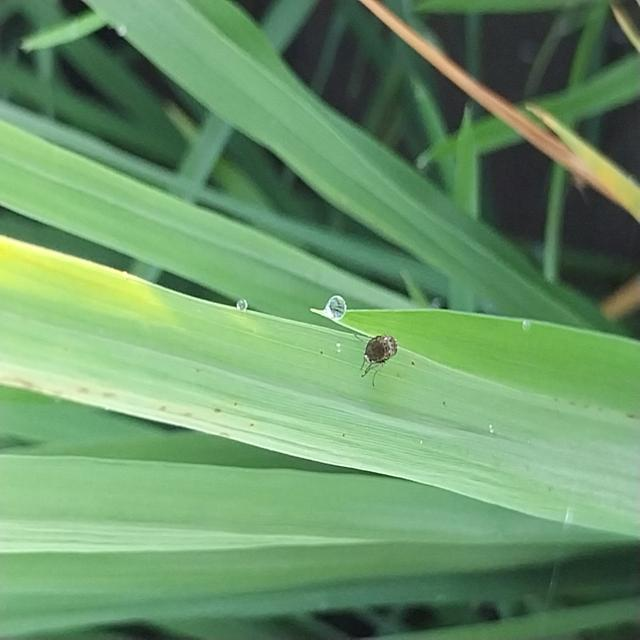healthy: (357, 317, 412, 384)
